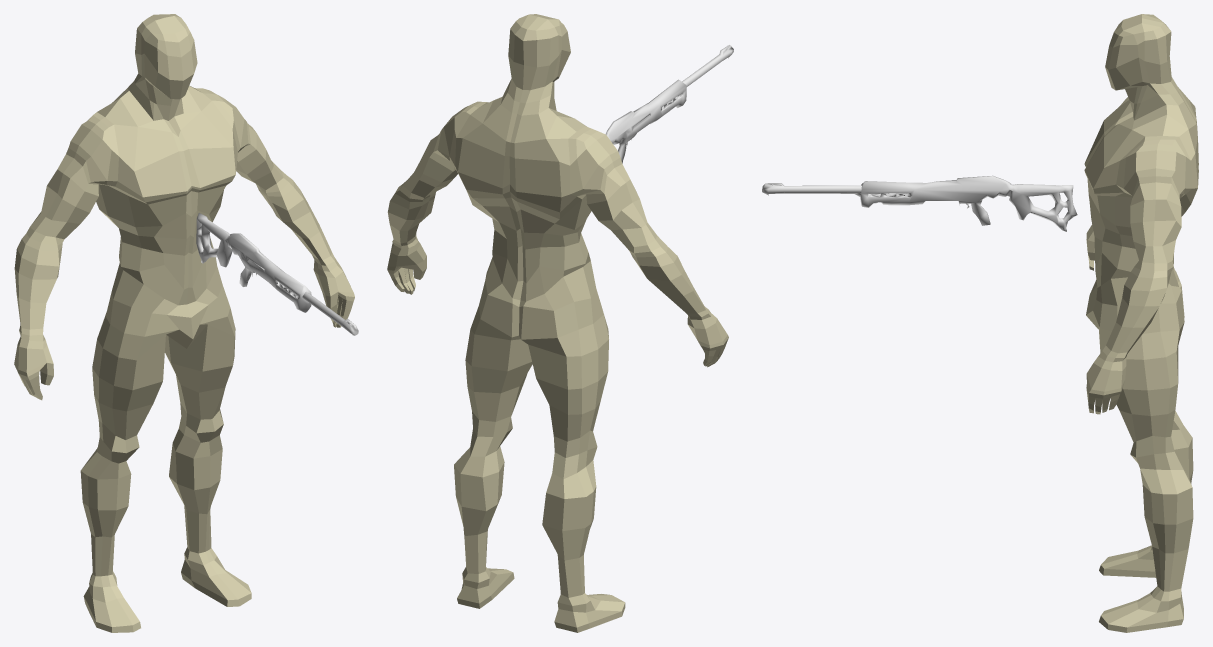
The model's file is Static_Soldier_1.fbx.
The picture shows the model from 3 angles, left to right: view 1: azimuth 30°, elevation 25°; view 2: azimuth 150°, elevation 25°; view 3: azimuth 270°, elevation 25°; orthographic projection.
Visible parts, largest first — view 1: Cube, Cube.001; view 2: Cube, Cube.001; view 3: Cube, Cube.001.
Part boxes in pixels (x1=…): Cube: x1=14, y1=14, x2=354, y2=632; Cube.001: x1=196, y1=213, x2=358, y2=335; Cube: x1=387, y1=14, x2=728, y2=632; Cube.001: x1=605, y1=45, x2=733, y2=163; Cube: x1=1084, y1=14, x2=1198, y2=632; Cube.001: x1=762, y1=175, x2=1077, y2=231.
Size of the model in its own units: 118 by 199 by 136.
